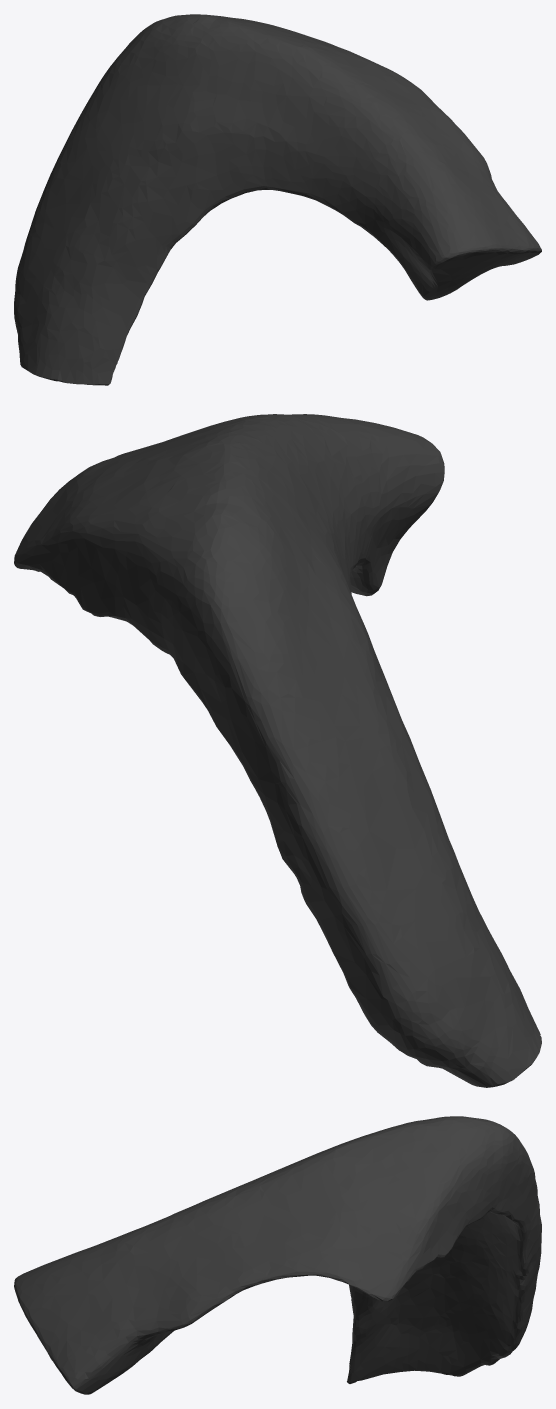
The model's file is Ventricle_1_R_caud_horn.glb.
3 renders of one model, top to bottom at view 1: azimuth 30°, elevation 25°; view 2: azimuth 150°, elevation 25°; view 3: azimuth 270°, elevation 25°, orthographic. The views are drawn at different scales.
Parts seen in each view (by area): view 1: Ventricle_1_R_caud_horn; view 2: Ventricle_1_R_caud_horn; view 3: Ventricle_1_R_caud_horn.
Boxes of the visible parts, x1,y1,x2,y2 form: Ventricle_1_R_caud_horn: (14,14,541,385); Ventricle_1_R_caud_horn: (14,414,541,1087); Ventricle_1_R_caud_horn: (14,1116,541,1394).
Size of the model in its own units: 0.0314 by 0.0261 by 0.0359.
Materials: 1 (1 with a texture image).
